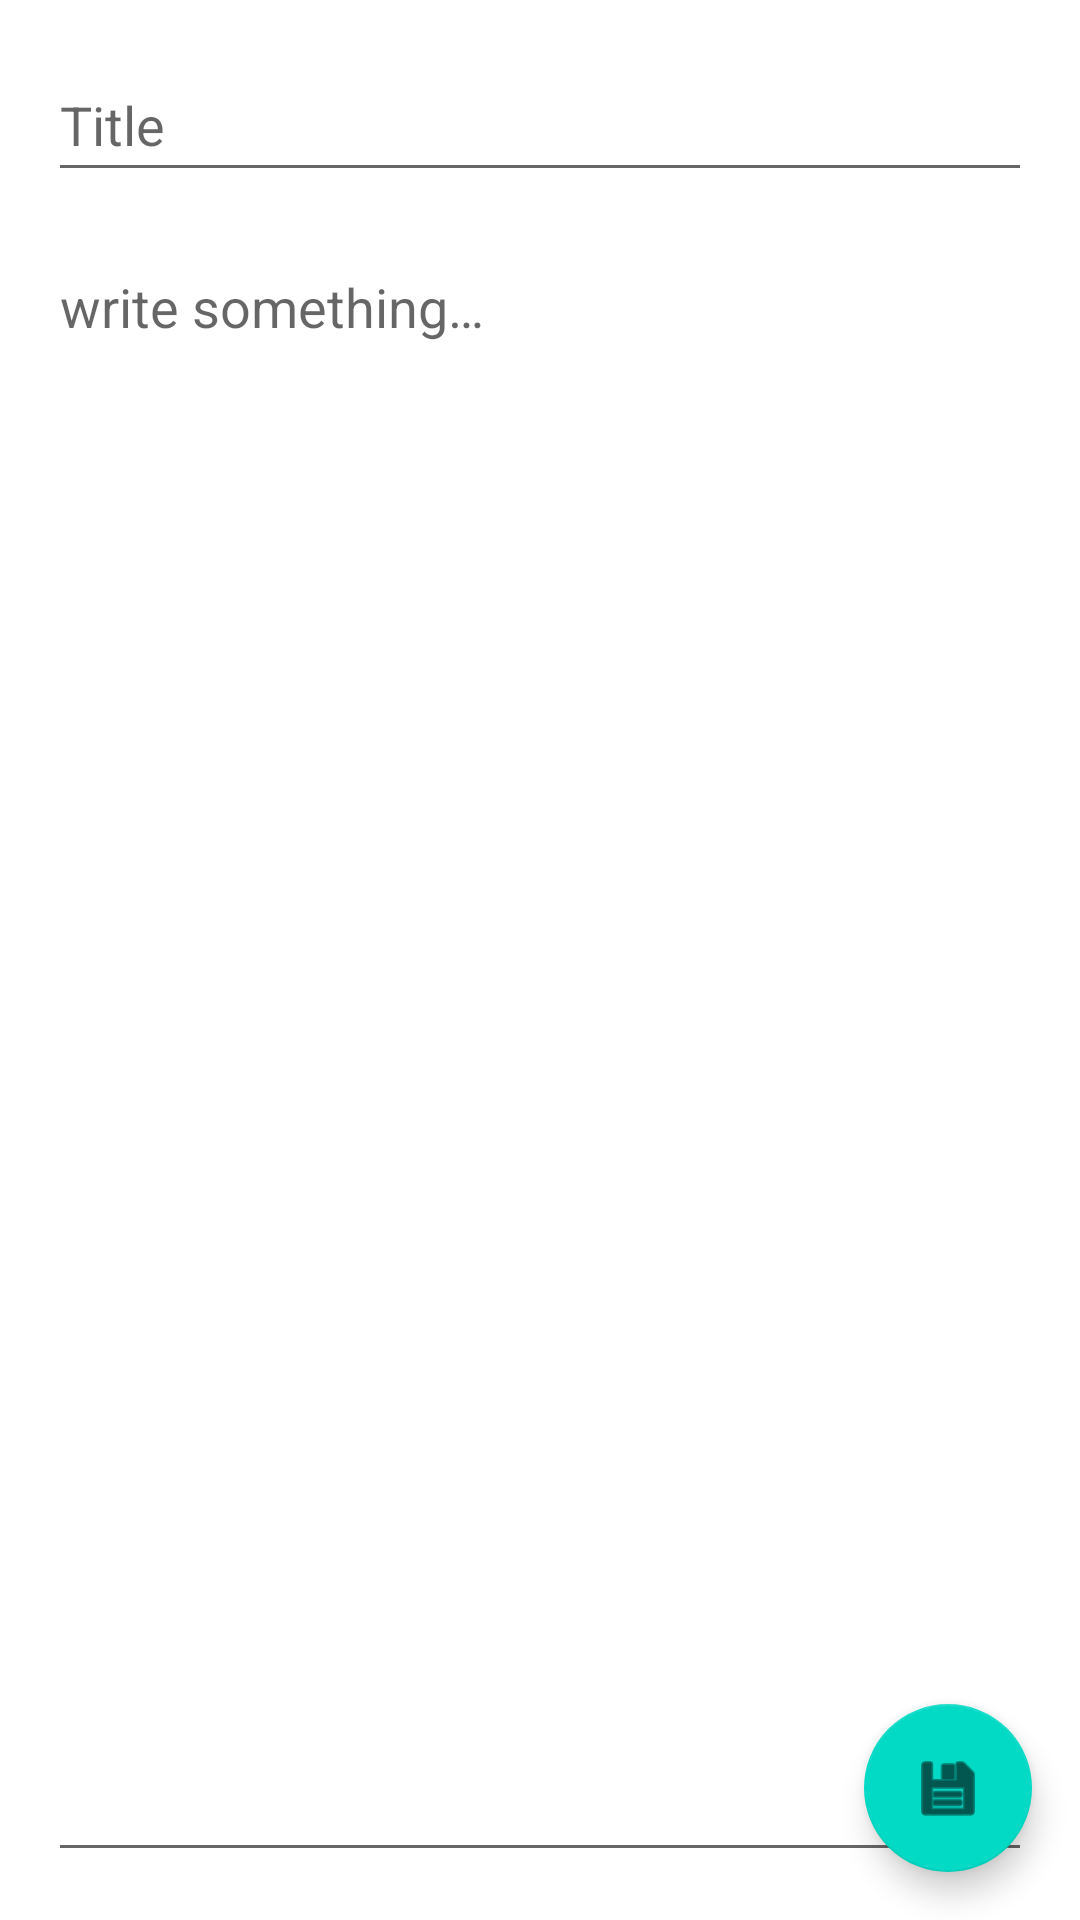

Icons on this 1080×1920 Android screen, each with the point to tap as point (x, y):
save post: point (948, 1788)
